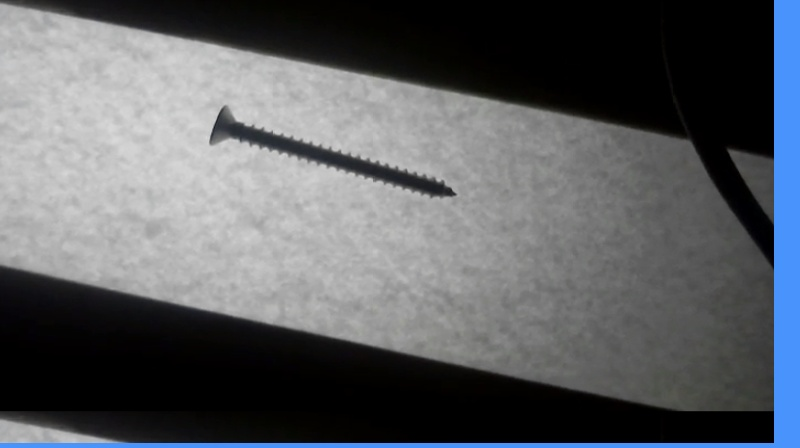S002: (204, 102, 460, 199)
